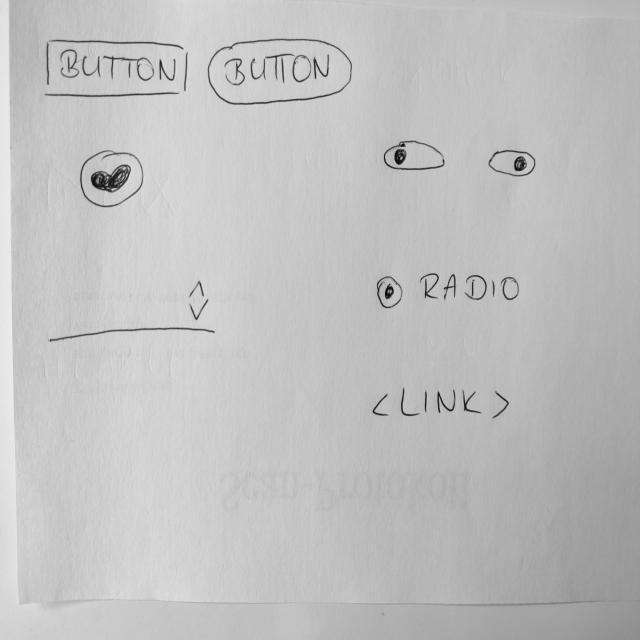button: (205, 36, 354, 108), (43, 35, 189, 100)
icon-button: (78, 147, 146, 212)
link: (371, 384, 512, 422)
number-input: (46, 276, 218, 346)
radio: (374, 270, 522, 311)
toggle: (382, 138, 446, 172), (487, 148, 537, 177)
